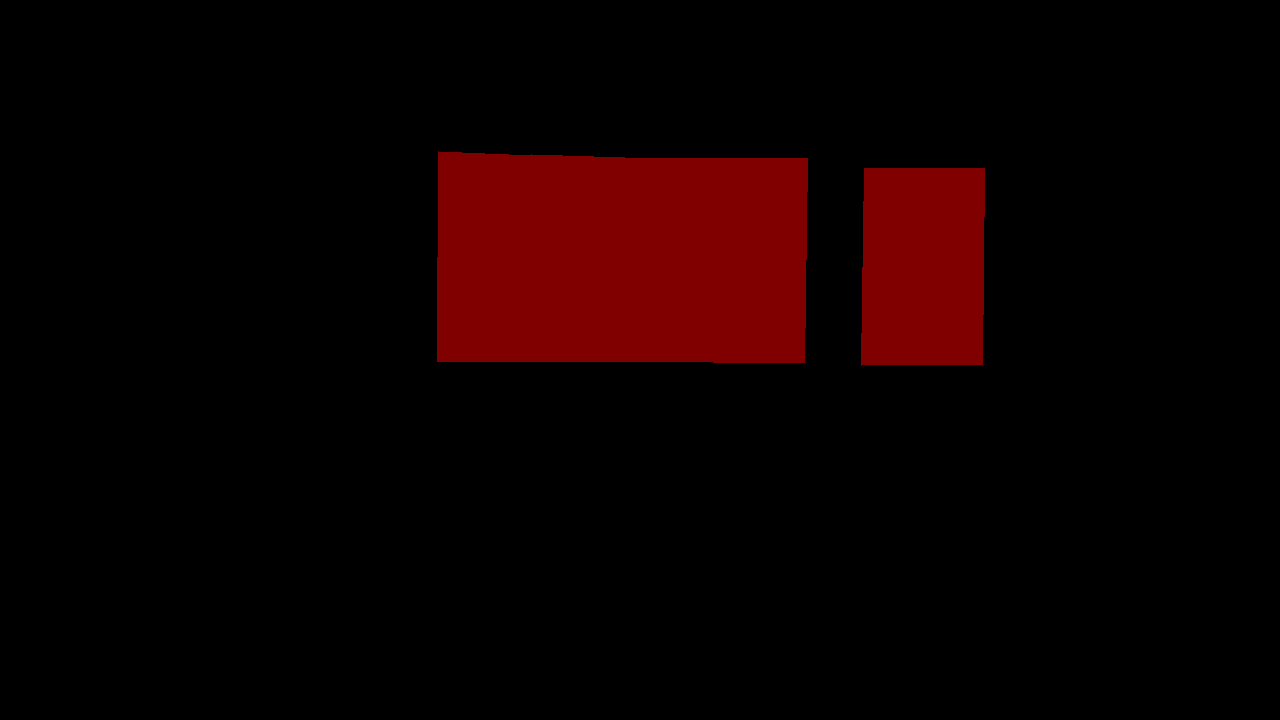door: (861, 168, 984, 365), (437, 151, 531, 361), (530, 154, 624, 361), (623, 157, 716, 362), (714, 158, 807, 362)
